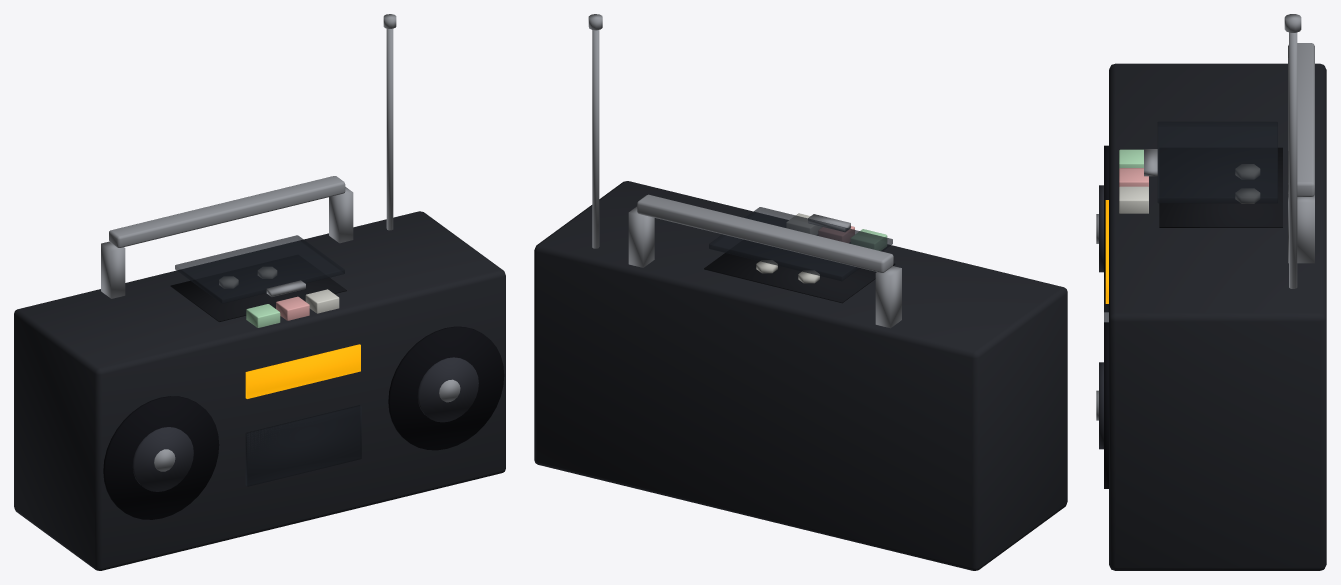
Rendered from boombox_95.glb.
3 views of the same model, side by side, from view 1: azimuth 30°, elevation 25°; view 2: azimuth 150°, elevation 25°; view 3: azimuth 270°, elevation 25° (orthographic). The views are drawn at different scales.
Parts seen in each view (by area): view 1: Boombox_Body, Speaker_Left, Speaker_Right, Deck_B_Door, Cassette_Door, Deck_Plate, Handle_Bar, Dial_Window, Speaker_Cone_Left, Speaker_Cone_Right, Antenna, Handle_Post_-0.10 (+4 smaller); view 2: Boombox_Body, Handle_Bar, Deck_Plate, Cassette_Door, Antenna, Handle_Post_-0.10, Handle_Post_+0.10; view 3: Boombox_Body, Cassette_Door, Deck_Plate, Handle_Bar, Antenna, Handle_Post_+0.10, Btn_Eject, Speaker_Right, Btn_Stop, Speaker_Left, Btn_Play, Speaker_Cone_Left (+6 smaller).
Part boxes in pixels (box(x1,y1,x2,y2)): Boombox_Body: box(14, 211, 505, 570); Speaker_Left: box(103, 396, 219, 519); Speaker_Right: box(388, 326, 504, 450); Deck_B_Door: box(245, 405, 361, 486); Cassette_Door: box(175, 235, 344, 303); Deck_Plate: box(170, 255, 346, 321); Handle_Bar: box(109, 176, 345, 247); Dial_Window: box(245, 344, 360, 398); Speaker_Cone_Left: box(132, 427, 193, 491); Speaker_Cone_Right: box(417, 357, 478, 422); Antenna: box(386, 28, 393, 230); Handle_Post_-0.10: box(101, 241, 125, 298); Boombox_Body: box(534, 181, 1067, 570); Handle_Bar: box(637, 194, 893, 272); Deck_Plate: box(704, 240, 895, 303); Cassette_Door: box(709, 207, 892, 281); Antenna: box(592, 30, 599, 248); Handle_Post_-0.10: box(875, 266, 901, 328); Handle_Post_+0.10: box(628, 206, 654, 267); Boombox_Body: box(1109, 63, 1326, 570); Cassette_Door: box(1157, 121, 1277, 203); Deck_Plate: box(1159, 147, 1282, 227); Handle_Bar: box(1288, 43, 1314, 196); Antenna: box(1289, 32, 1297, 288); Handle_Post_+0.10: box(1288, 194, 1314, 263); Btn_Eject: box(1119, 186, 1148, 213); Speaker_Right: box(1104, 322, 1108, 488); Btn_Stop: box(1119, 168, 1148, 186); Speaker_Left: box(1104, 145, 1108, 311); Btn_Play: box(1119, 149, 1143, 168); Speaker_Cone_Left: box(1099, 185, 1103, 272).
Size of the model in its own units: 0.36 by 0.348 by 0.1375.
